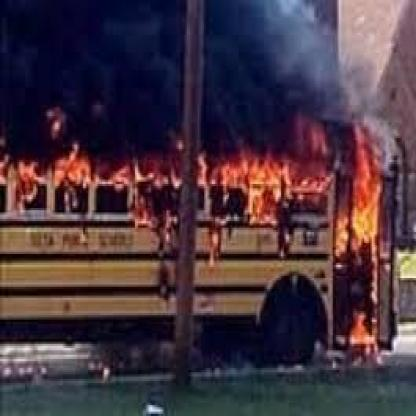fire: (0, 115, 331, 229), (332, 114, 383, 346)
smoke: (5, 2, 340, 163)
